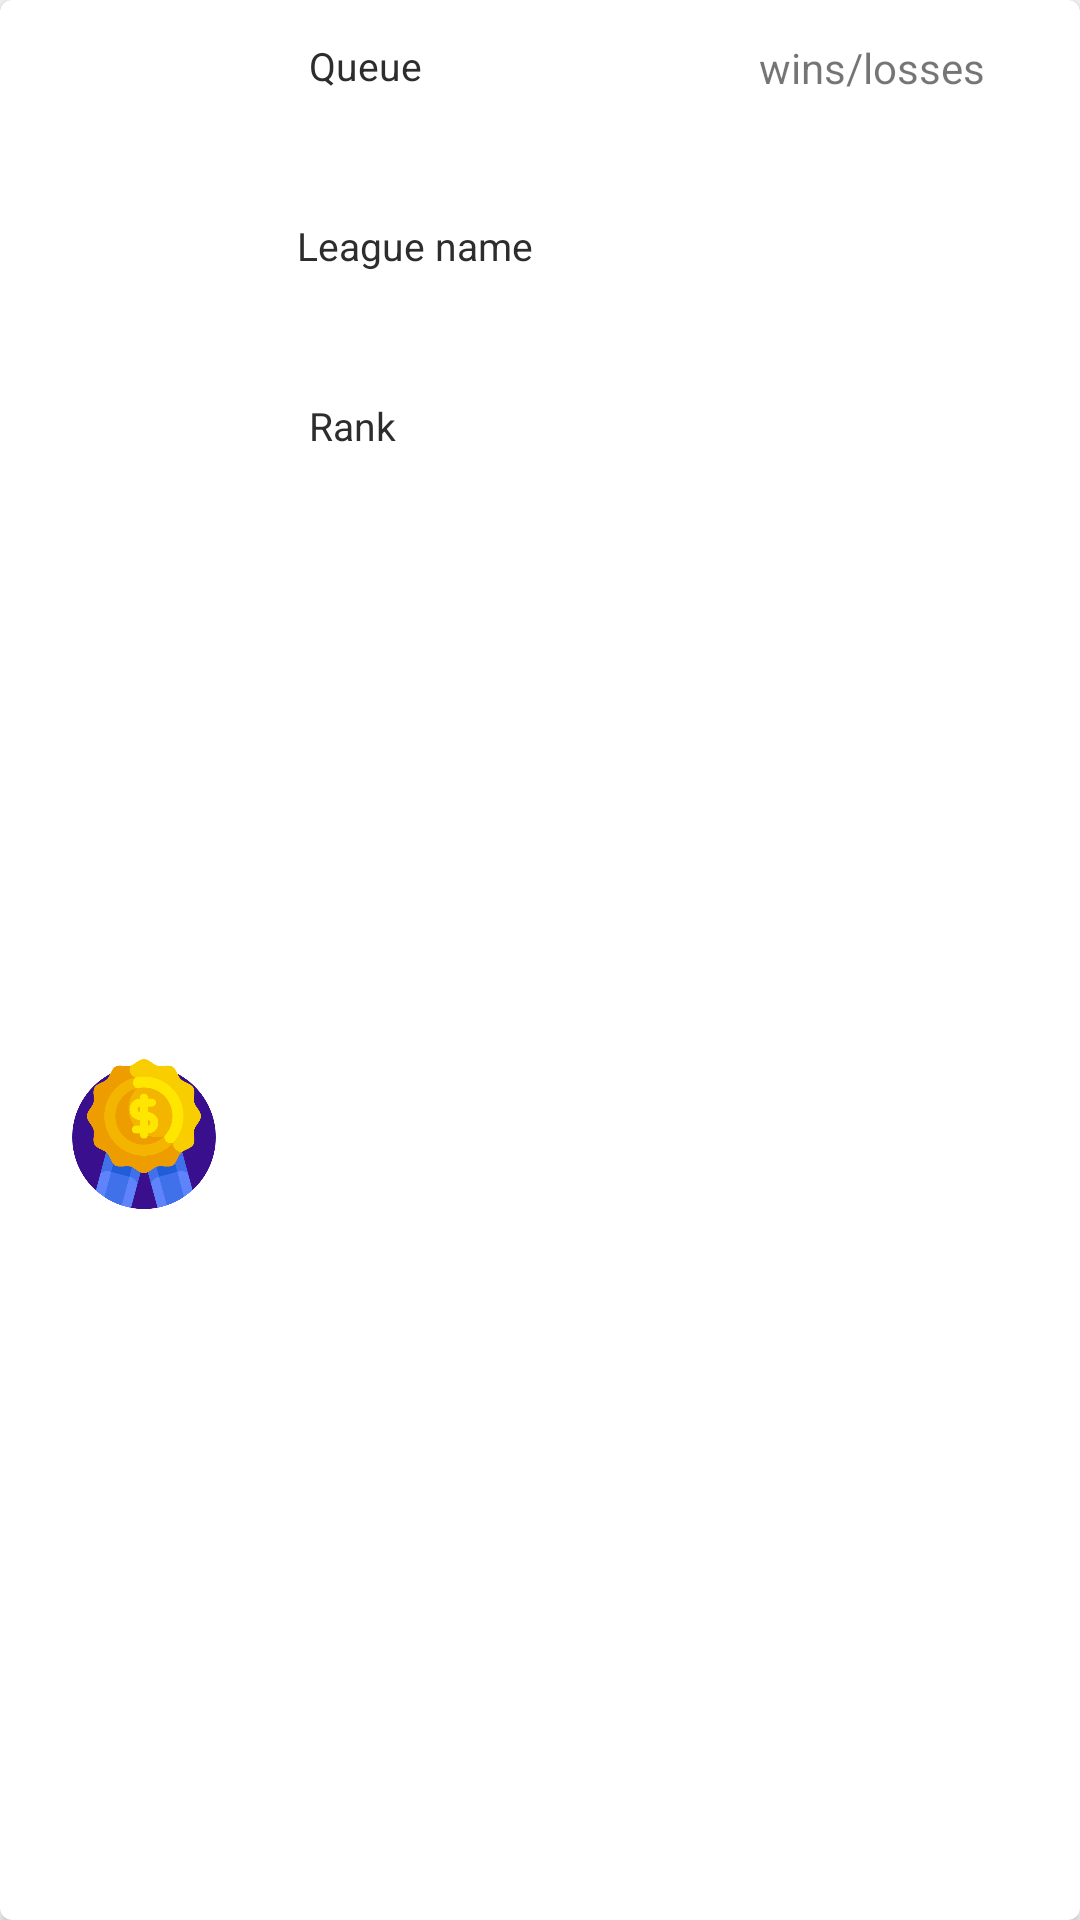

Where icons sit on this 1080×1920 app screen, as bbox=[x1, y1, x2, y2]:
badge: bbox=[72, 1059, 216, 1209]
